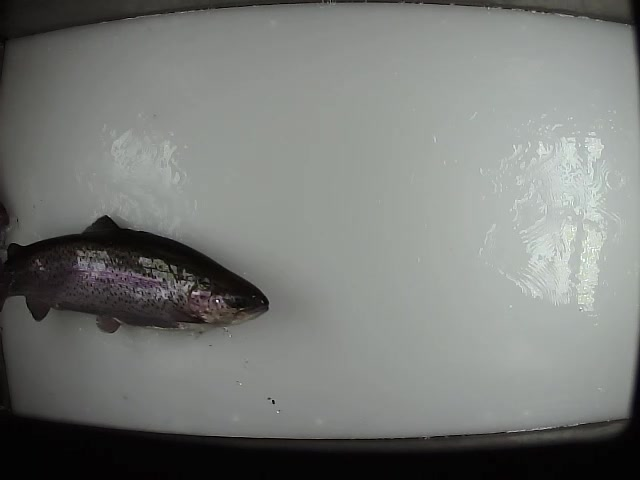fish: (1, 212, 271, 336)
